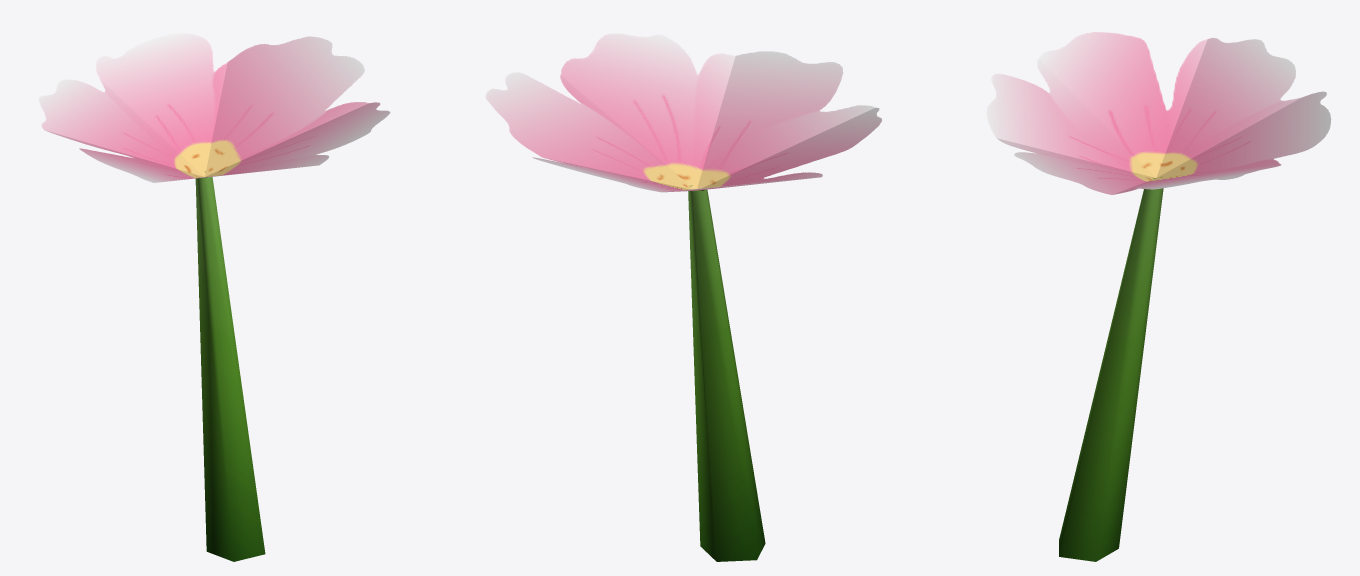
Rendered from SM_Flower4.fbx.
3 renders of one model, left to right at view 1: azimuth 30°, elevation 25°; view 2: azimuth 150°, elevation 25°; view 3: azimuth 270°, elevation 25°, orthographic. The views are drawn at different scales.
Parts seen in each view (by area): view 1: T_Grass_Flower.007, Cylinder.002; view 2: T_Grass_Flower.007, Cylinder.002; view 3: T_Grass_Flower.007, Cylinder.002.
Boxes of the visible parts, x1,y1,x2,y2 form: T_Grass_Flower.007: [38, 33, 390, 182]; Cylinder.002: [195, 171, 265, 561]; T_Grass_Flower.007: [485, 33, 881, 192]; Cylinder.002: [688, 185, 765, 561]; T_Grass_Flower.007: [986, 32, 1331, 194]; Cylinder.002: [1059, 176, 1163, 561].
Size of the model in its own units: 0.1046 by 0.1171 by 0.0941.
Materials: 2 (2 with a texture image).
